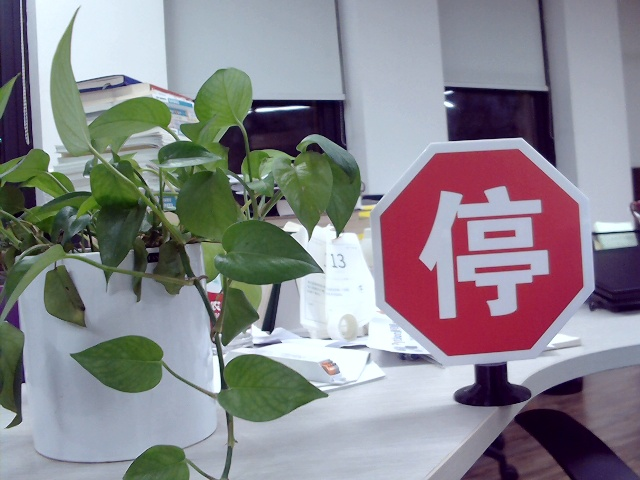stop: (412, 189, 552, 316)
